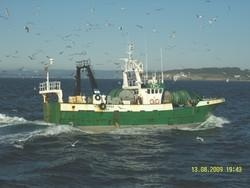otherboat: (33, 38, 227, 131)
